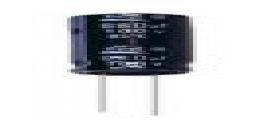Electrolytic-capacitor: (65, 10, 202, 120)
